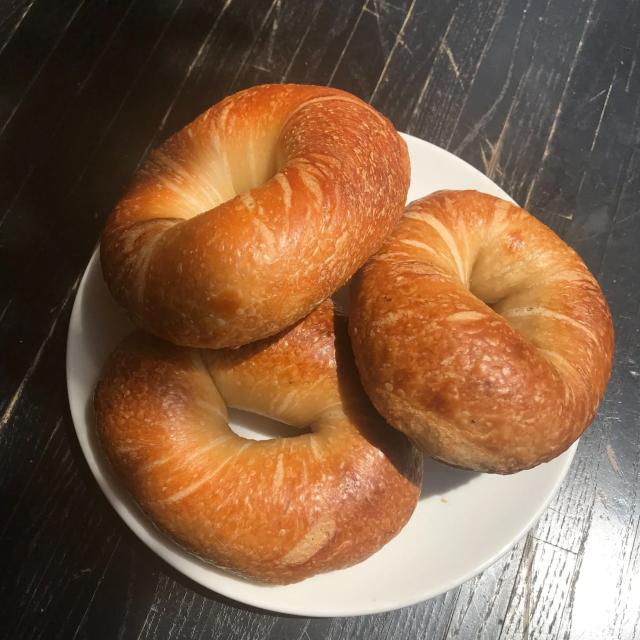Bagel: (95, 300, 422, 584), (101, 84, 410, 349), (349, 190, 614, 474)
